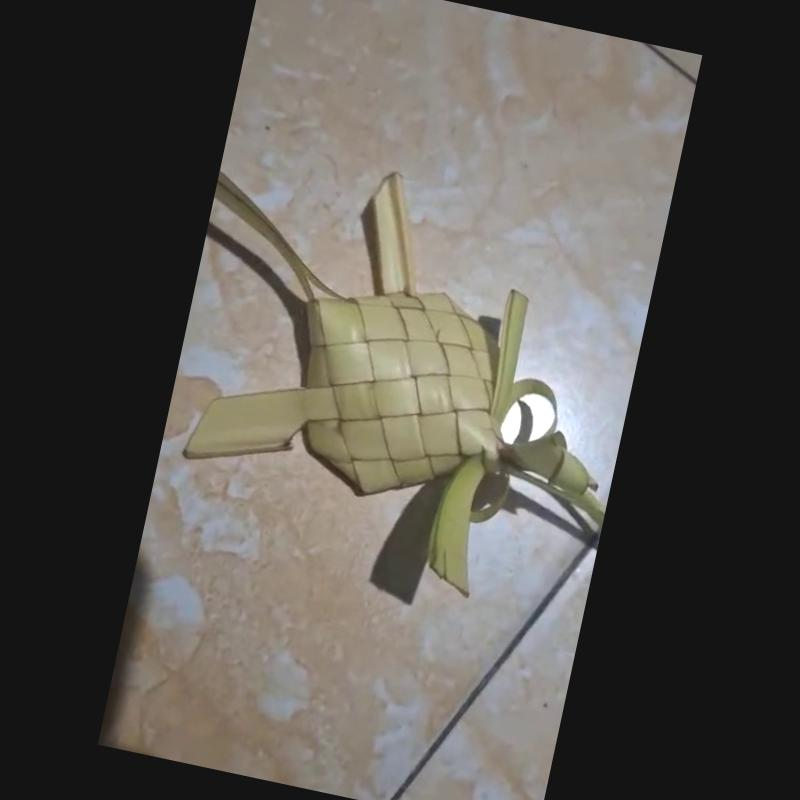Tipat Dampulan: (185, 166, 607, 603)
